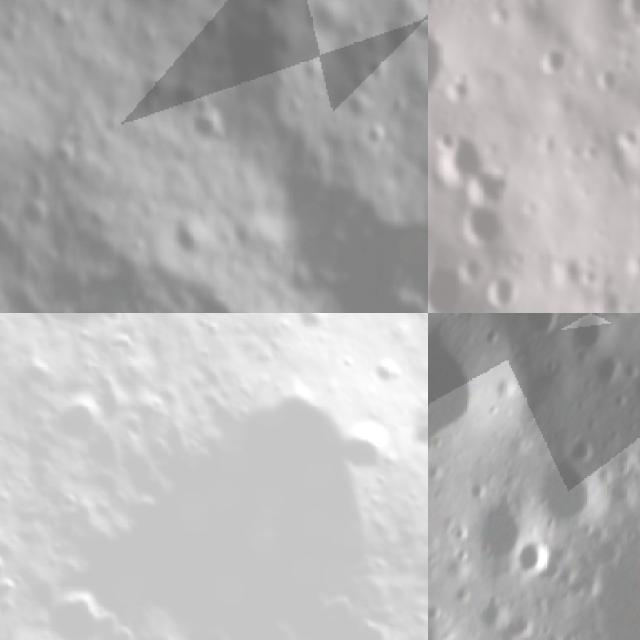crater: (12, 345, 428, 640), (428, 313, 507, 472), (0, 313, 178, 374), (455, 482, 535, 573), (530, 454, 608, 534), (391, 379, 428, 488), (556, 313, 619, 368), (157, 215, 213, 274), (373, 12, 419, 69), (174, 110, 228, 158), (428, 254, 471, 313), (431, 129, 482, 177), (456, 208, 522, 244), (560, 423, 607, 472), (503, 313, 568, 348), (333, 86, 382, 129), (471, 589, 516, 634), (9, 192, 53, 238), (508, 538, 554, 582), (352, 115, 398, 157), (458, 175, 517, 202), (484, 270, 520, 313), (405, 12, 428, 59), (242, 0, 304, 14), (626, 114, 640, 175), (592, 68, 624, 93), (627, 422, 640, 475), (589, 313, 638, 323), (539, 52, 560, 74)
